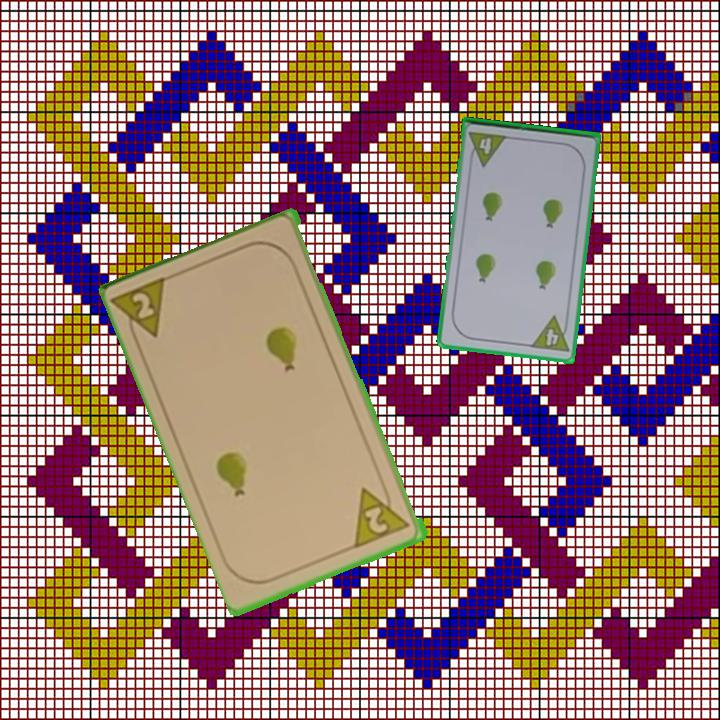2p: (111, 272, 173, 350), (351, 478, 413, 551)
4p: (527, 313, 572, 355), (465, 128, 510, 169)
